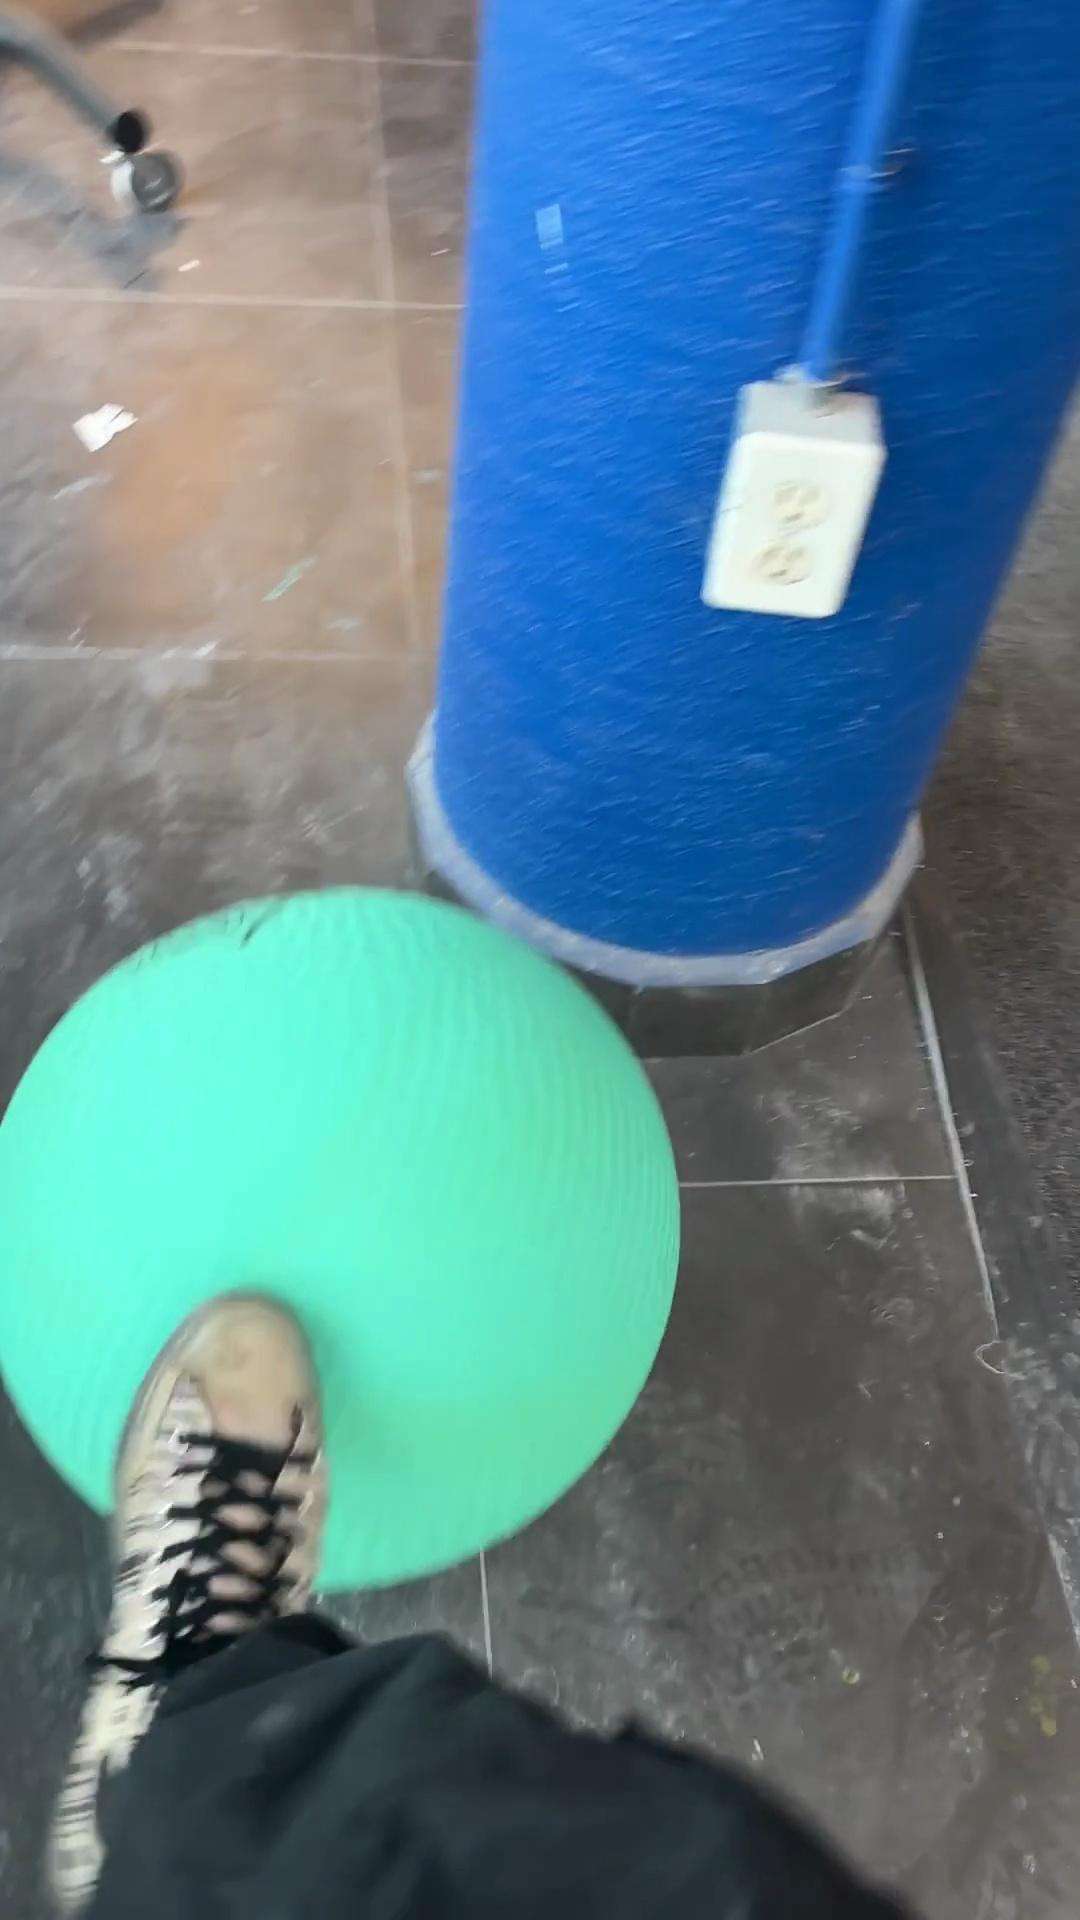ALGAE: (1, 882, 683, 1595)
